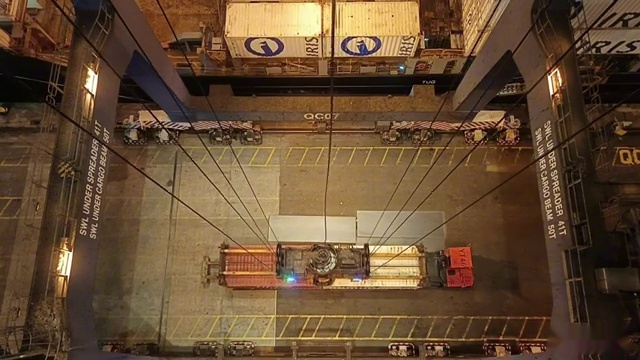container: (210, 239, 437, 293), (222, 2, 424, 59), (208, 1, 436, 37), (209, 0, 433, 31), (220, 4, 426, 33), (323, 16, 523, 26), (226, 0, 421, 5), (216, 0, 430, 3)
guide_mark: (76, 315, 551, 338), (106, 147, 544, 167)
spreader: (207, 236, 436, 291)
target_slot: (205, 234, 441, 295)
